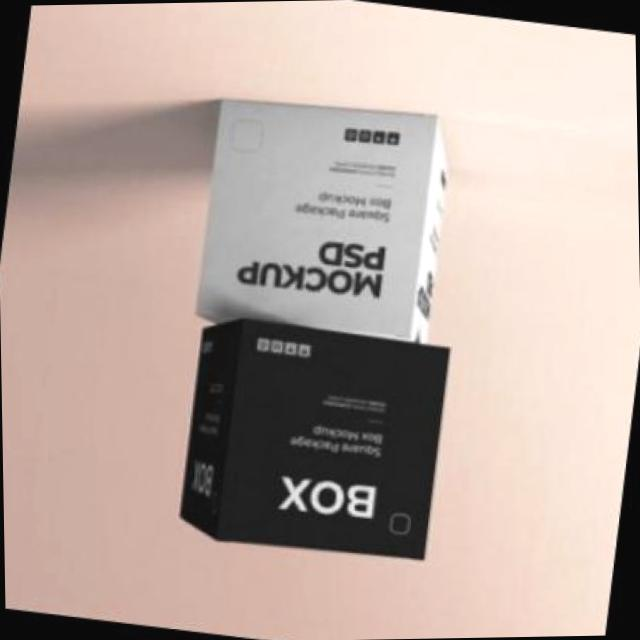box: (164, 71, 470, 375), (158, 288, 467, 576)
